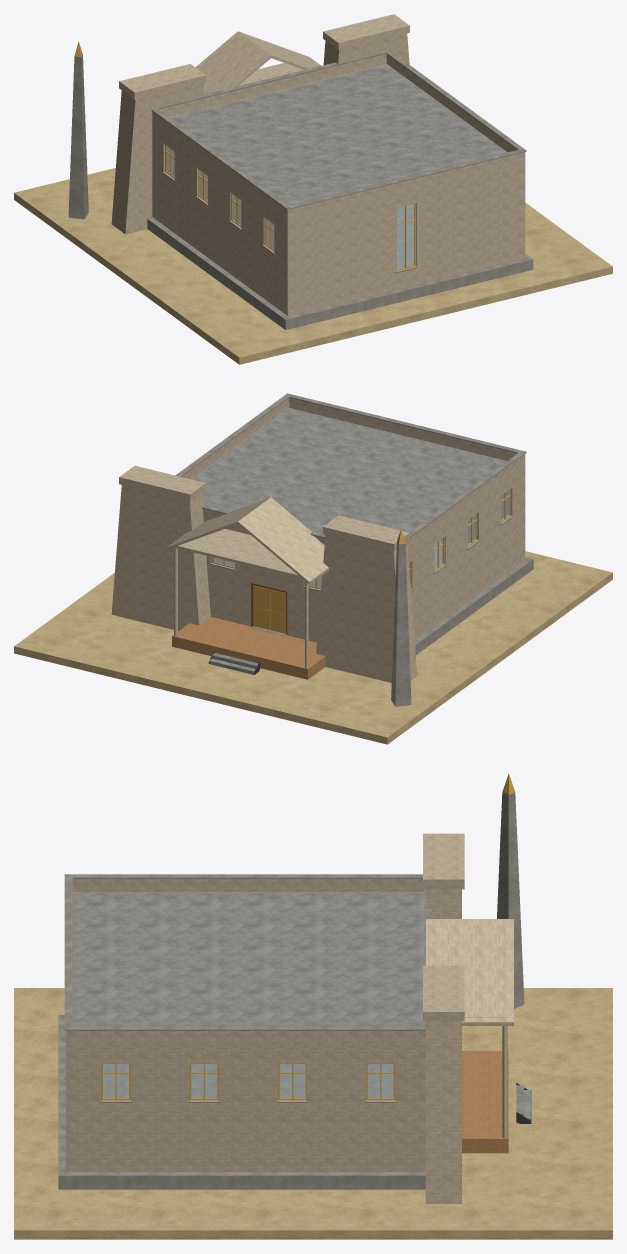
The model's file is b_egyptian_temple.gltf.
The picture shows the model from 3 angles, top to bottom: view 1: azimuth 30°, elevation 25°; view 2: azimuth 150°, elevation 25°; view 3: azimuth 270°, elevation 25°; orthographic projection. The views are drawn at different scales.
Visible parts, largest first — view 1: S_egyptian_temple; view 2: S_egyptian_temple, D_egyptian_temple_F1_S4_Door0, D_egyptian_temple_F1_S4_Door1; view 3: S_egyptian_temple.
Part boxes in pixels (x1=…): S_egyptian_temple: x1=14, y1=14, x2=612, y2=364; S_egyptian_temple: x1=14, y1=393, x2=612, y2=744; D_egyptian_temple_F1_S4_Door0: x1=253, y1=584, x2=270, y2=629; D_egyptian_temple_F1_S4_Door1: x1=270, y1=589, x2=286, y2=633; S_egyptian_temple: x1=14, y1=773, x2=612, y2=1239.
Size of the model in its own units: 22 by 10.2 by 23.
Materials: 13 (8 with a texture image).
